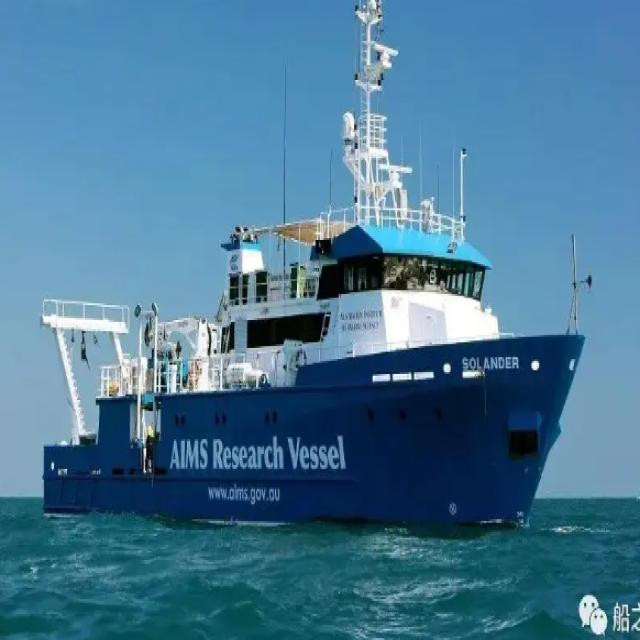fishing boat: (34, 26, 592, 554)
